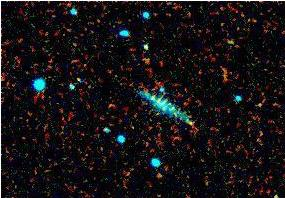star: (177, 109, 207, 139)
